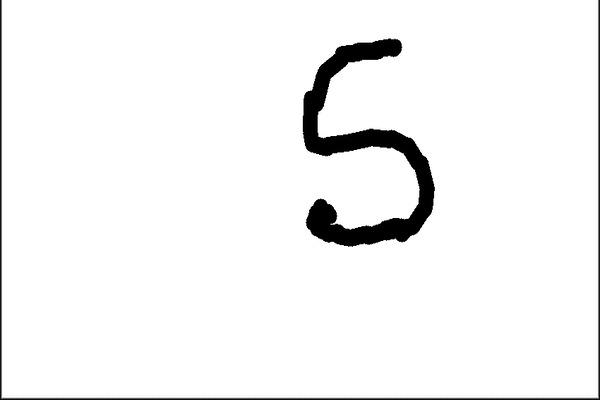S: (284, 25, 442, 252)
